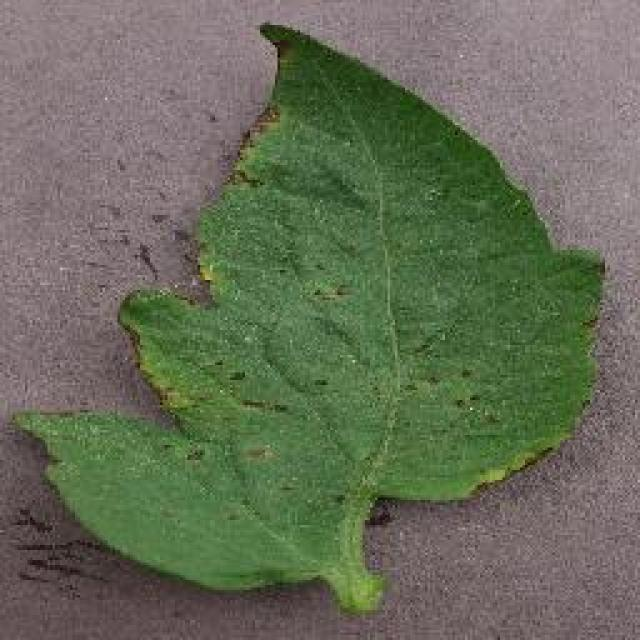bacterial spot: (12, 22, 609, 606)
